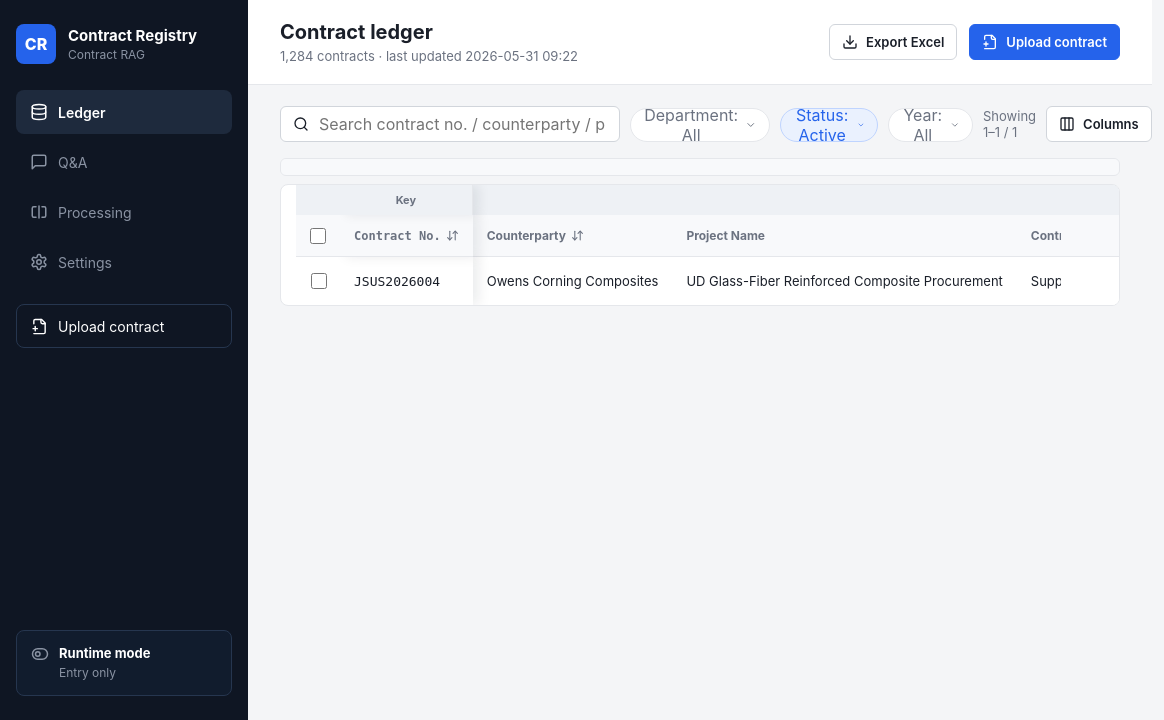
it: Contract-RAG frontend › exports the current ledger filters as an xlsx download
Check: the text "Owens Corning Composites" is shown, box x1=473 y1=257 x2=672 y2=305
Type "Owens" into the field with placeholder "Search contract no. / counterparty / project".
click(462, 124); type("Owens")  # box x1=317 y1=112 x2=607 y2=134
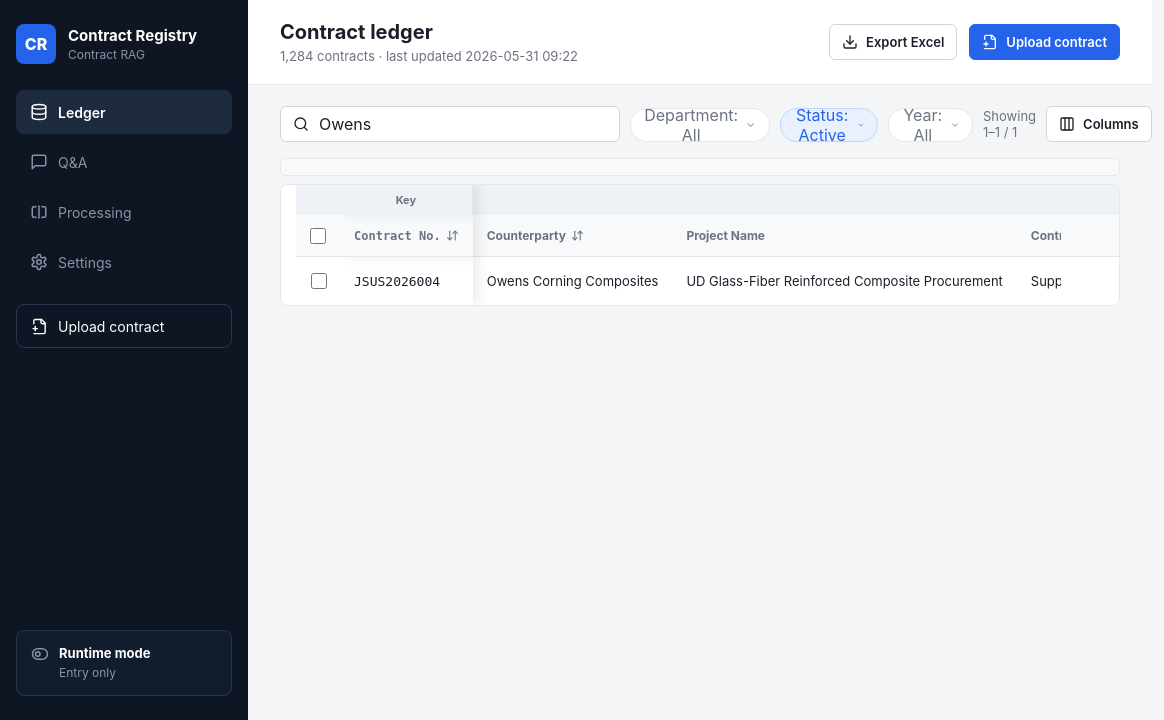
Click the button "Export Excel".
click(893, 42)  # box x1=829 y1=24 x2=957 y2=60
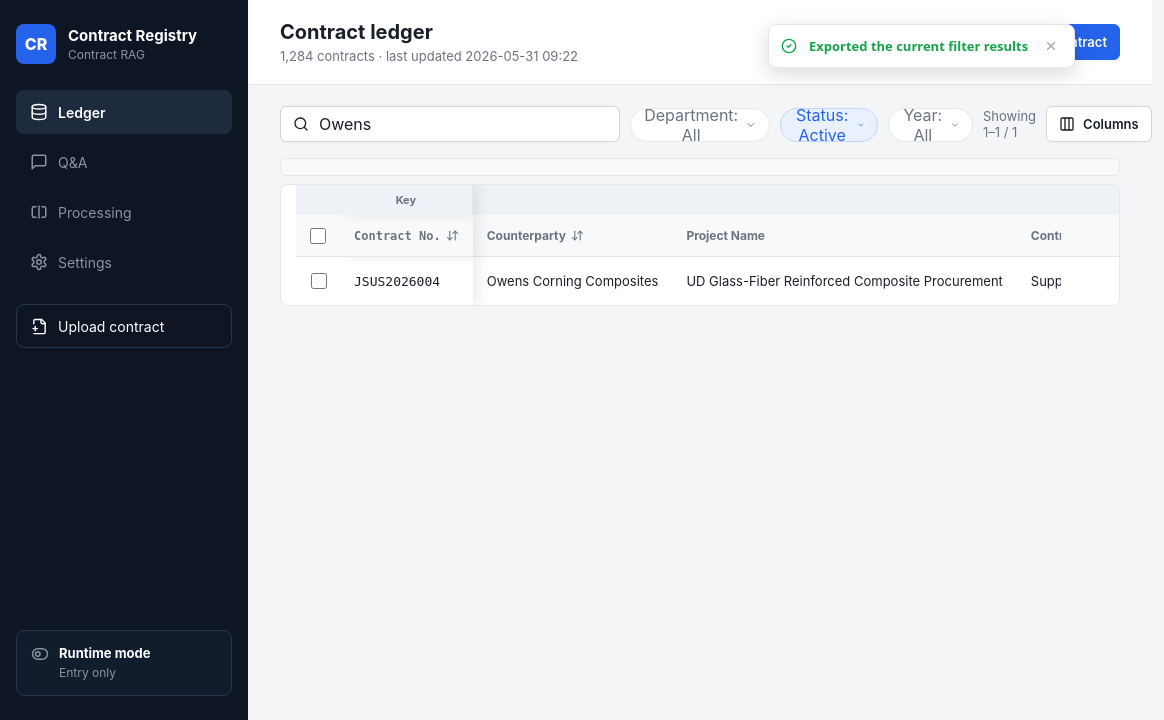
Check: the text "Exported the current filter results" is shown, box x1=809 y1=37 x2=1028 y2=55
